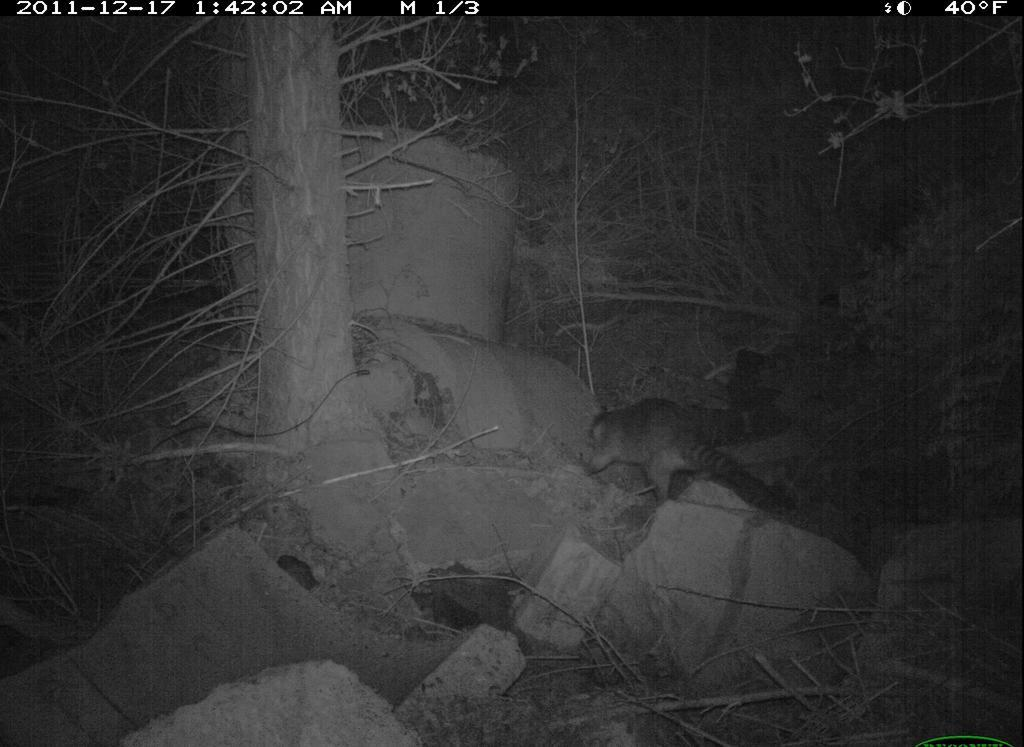raccoon: (580, 395, 798, 521)
